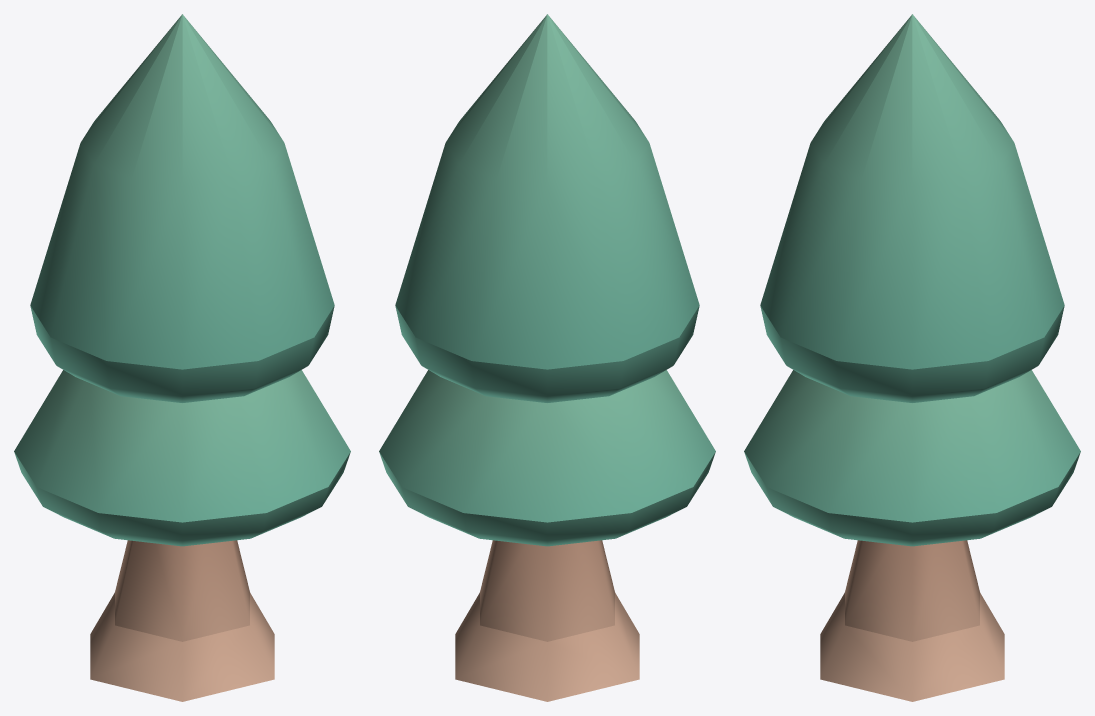
The model's file is tree_small.glb.
The picture shows the model from 3 angles, left to right: view 1: azimuth 30°, elevation 25°; view 2: azimuth 150°, elevation 25°; view 3: azimuth 270°, elevation 25°; orthographic projection.
Parts seen in each view (by area): view 1: tree_small; view 2: tree_small; view 3: tree_small.
Boxes of the visible parts, x1,y1,x2,y2 form: tree_small: (14, 14, 350, 701); tree_small: (379, 14, 715, 701); tree_small: (744, 14, 1080, 701).
Size of the model in its own units: 0.6639 by 1.4 by 0.6639.
